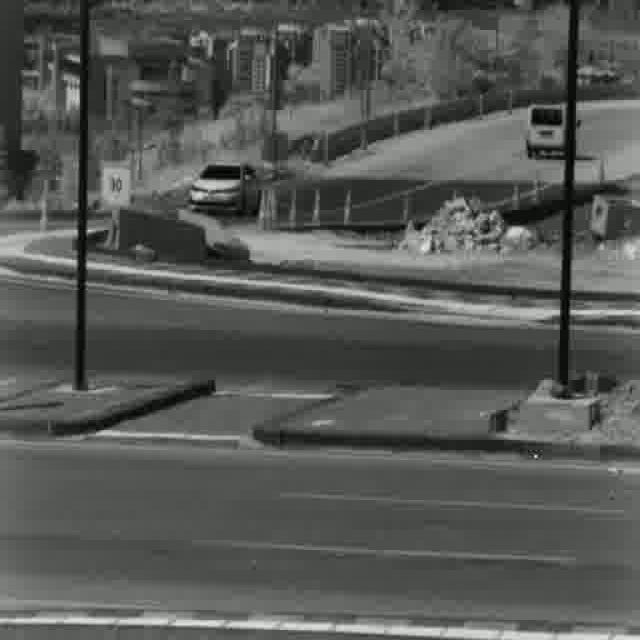Car: (190, 162, 260, 220), (526, 101, 566, 160)
